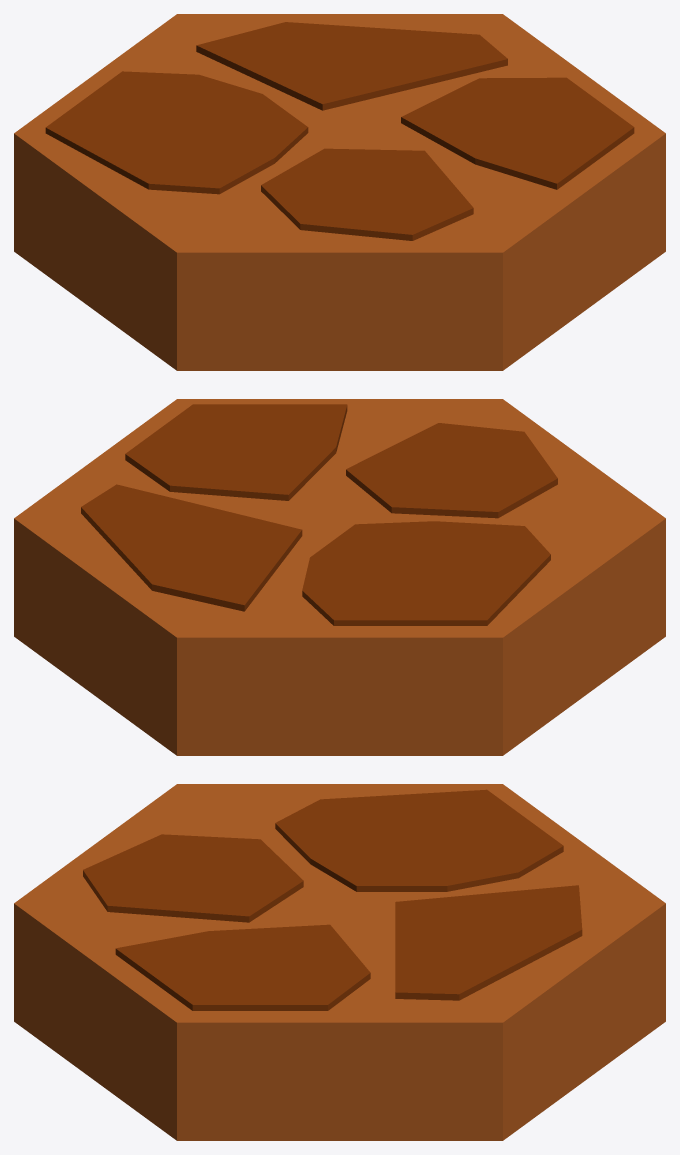
File: TileHex_12.fbx
3 views of the same model, one above another, from view 1: azimuth 30°, elevation 25°; view 2: azimuth 150°, elevation 25°; view 3: azimuth 270°, elevation 25° (orthographic).
Visible parts, largest first — view 1: TileHex_12; view 2: TileHex_12; view 3: TileHex_12.
Boxes of the visible parts, x1,y1,x2,y2 form: TileHex_12: (14, 14, 665, 370); TileHex_12: (14, 399, 665, 755); TileHex_12: (14, 784, 665, 1140).
Bounding box in the file's own units: 433 × 105 × 500.
